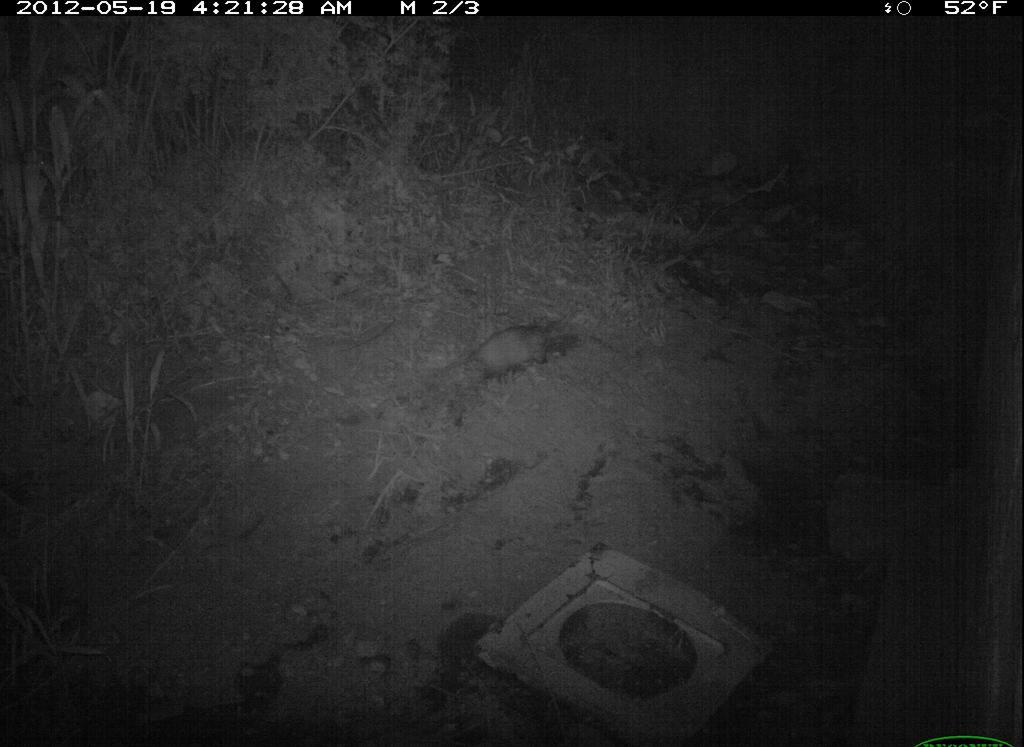opossum: (454, 303, 577, 392)
